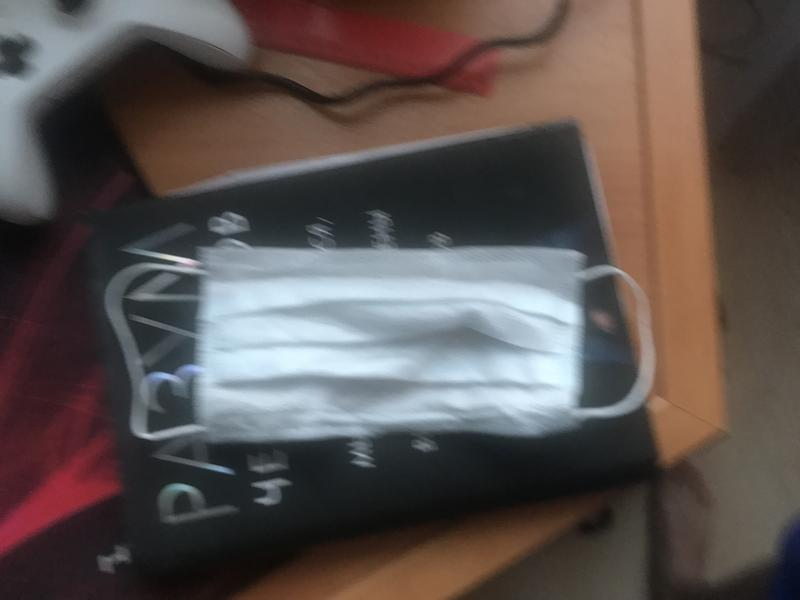medical_mask: (104, 249, 654, 437)
